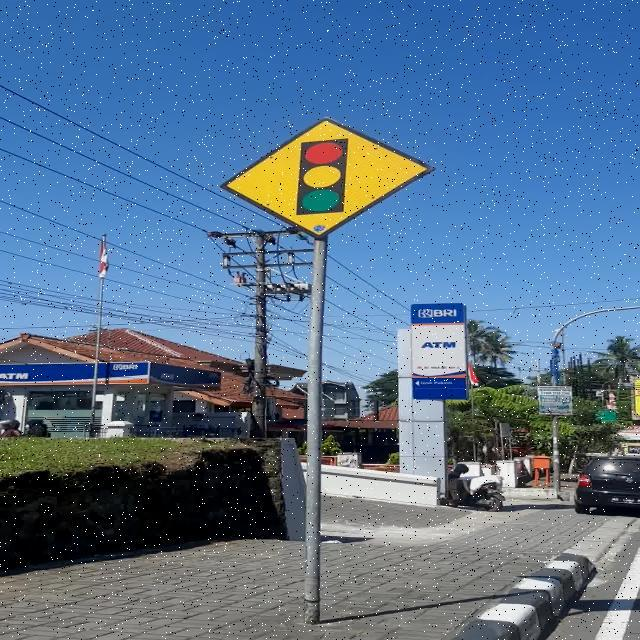Lampu Lalu Lintas: (219, 116, 436, 240)
